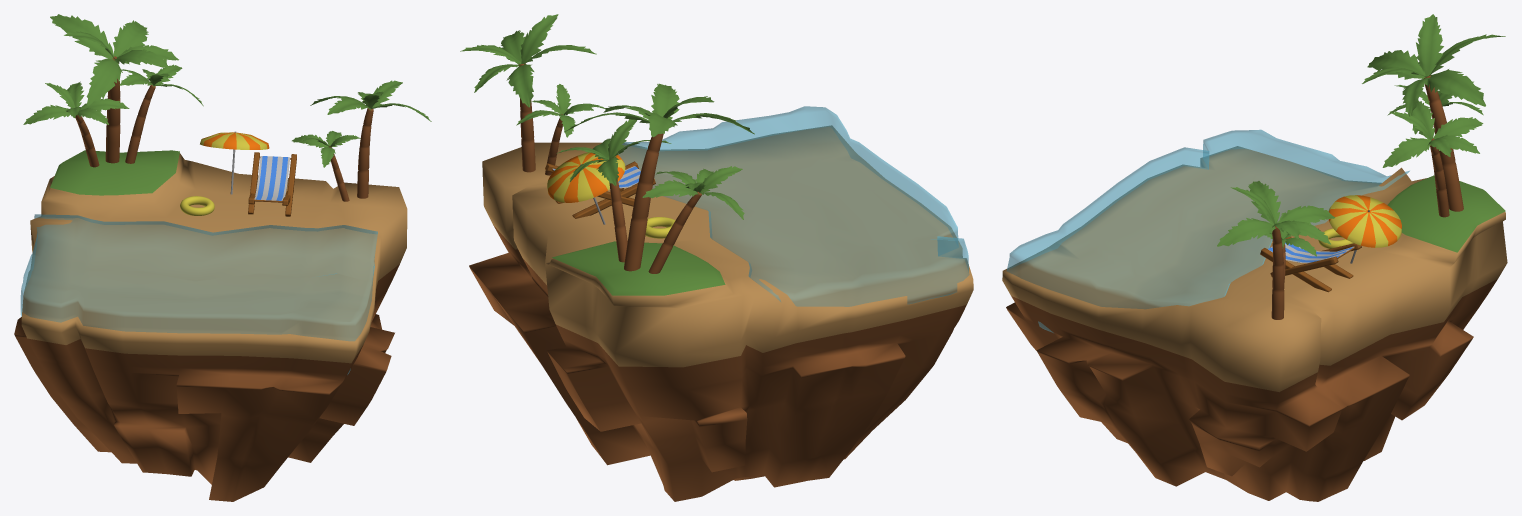
Rendered from Beach.glb.
The picture shows the model from 3 angles, left to right: view 1: azimuth 30°, elevation 25°; view 2: azimuth 150°, elevation 25°; view 3: azimuth 270°, elevation 25°; orthographic projection. The views are drawn at different scales.
Visible parts, largest first — view 1: Cube, Cube.002, Cube.169, Plane.010, Plane.006, Plane.025, Plane.023, Cylinder.002, Cylinder.004, Circle, Plane.012, Plane.024 (+3 smaller); view 2: Cube, Cube.002, Cube.169, Plane.023, Circle, Plane.010, Cylinder.002, Plane.006, Plane.012, Plane.024, Cylinder.001, Cylinder.004 (+1 smaller); view 3: Cube, Cube.002, Cube.169, Plane.010, Plane.023, Circle, Plane.012, Cylinder.002, Cylinder.004, Cylinder.003, Plane.025.
Boxes of the visible parts, bbox=[...] form: Cube: bbox=[14, 153, 407, 501]; Cube.002: bbox=[20, 214, 377, 374]; Cube.169: bbox=[50, 150, 179, 195]; Plane.010: bbox=[50, 14, 178, 105]; Plane.006: bbox=[23, 81, 129, 124]; Plane.025: bbox=[254, 156, 290, 200]; Plane.023: bbox=[310, 80, 431, 121]; Cylinder.002: bbox=[105, 56, 120, 163]; Cylinder.004: bbox=[357, 108, 373, 198]; Circle: bbox=[200, 132, 269, 149]; Plane.012: bbox=[119, 64, 203, 106]; Plane.024: bbox=[292, 131, 360, 167]; Cube: bbox=[469, 125, 973, 501]; Cube.002: bbox=[618, 106, 969, 306]; Cube.169: bbox=[552, 241, 725, 295]; Plane.023: bbox=[460, 14, 596, 107]; Circle: bbox=[547, 152, 625, 202]; Plane.010: bbox=[564, 83, 754, 137]; Cylinder.002: bbox=[624, 133, 663, 271]; Plane.006: bbox=[642, 166, 744, 219]; Plane.012: bbox=[556, 119, 671, 185]; Plane.024: bbox=[516, 84, 605, 137]; Cylinder.001: bbox=[648, 191, 701, 273]; Cylinder.004: bbox=[519, 63, 535, 172]; Cube: bbox=[1002, 146, 1507, 501]; Cube.002: bbox=[1007, 129, 1409, 332]; Cube.169: bbox=[1387, 175, 1505, 252]; Plane.010: bbox=[1362, 14, 1505, 116]; Plane.023: bbox=[1217, 181, 1335, 246]; Circle: bbox=[1328, 195, 1401, 247]; Plane.012: bbox=[1382, 100, 1483, 167]; Cylinder.002: bbox=[1424, 75, 1463, 211]; Cylinder.004: bbox=[1271, 226, 1284, 319]; Cylinder.003: bbox=[1430, 138, 1449, 217]; Plane.025: bbox=[1268, 242, 1354, 263].
Bounding box in the file's own units: 6.21 × 5.61 × 6.06.
